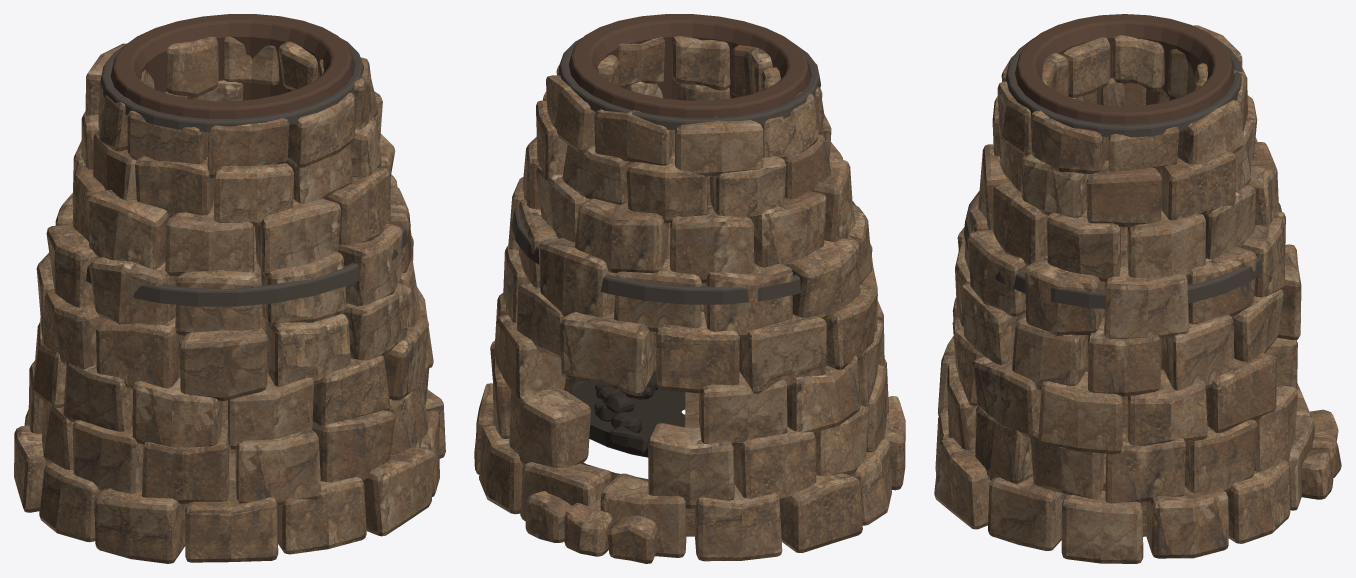
File: iron_furnace.glb
3 renders of one model, left to right at view 1: azimuth 30°, elevation 25°; view 2: azimuth 150°, elevation 25°; view 3: azimuth 270°, elevation 25°, orthographic. The views are drawn at different scales.
Visible parts, largest first — view 1: Fieldstone iron furnace; view 2: Fieldstone iron furnace; view 3: Fieldstone iron furnace.
Boxes of the visible parts, x1,y1,x2,y2 form: Fieldstone iron furnace: [14, 14, 445, 563]; Fieldstone iron furnace: [474, 14, 905, 563]; Fieldstone iron furnace: [934, 14, 1341, 563].
Size of the model in its own units: 1.08 by 1.13 by 1.02.
Materials: 6 (2 with a texture image).
